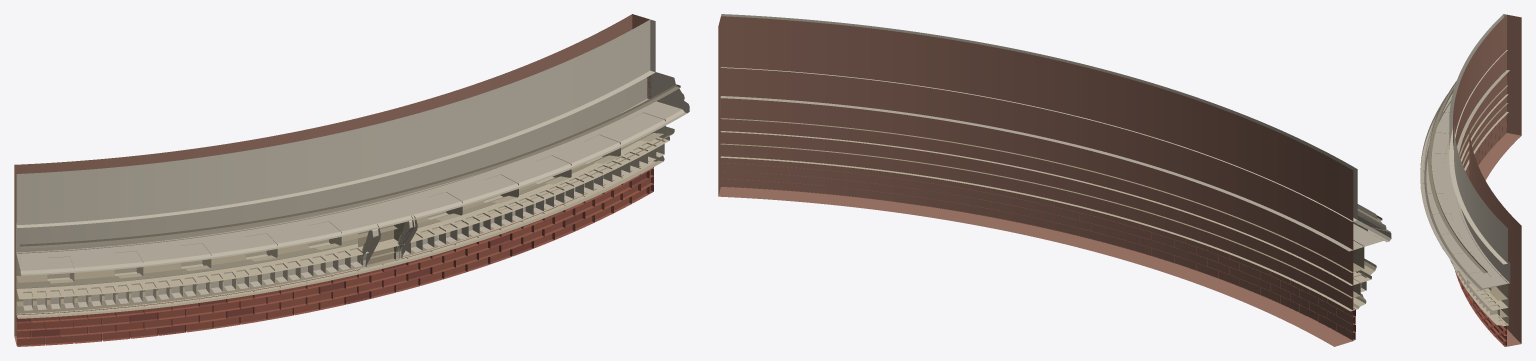
The model's file is hongkou-little-pearce-apartments-curved-cornice-raw.glb.
3 views of the same model, side by side, from view 1: azimuth 30°, elevation 25°; view 2: azimuth 150°, elevation 25°; view 3: azimuth 270°, elevation 25° (orthographic). The views are drawn at different scales.
Parts seen in each view (by area): view 1: 小浦西公寓塘沽路圆角檐带与齿饰; view 2: 小浦西公寓塘沽路圆角檐带与齿饰; view 3: 小浦西公寓塘沽路圆角檐带与齿饰.
Part boxes in pixels (<box>): 小浦西公寓塘沽路圆角檐带与齿饰: <box>14,14,689,346</box>; 小浦西公寓塘沽路圆角檐带与齿饰: <box>718,14,1391,346</box>; 小浦西公寓塘沽路圆角檐带与齿饰: <box>1420,14,1521,346</box>.
Bounding box in the file's own units: 6.33 × 1.55 × 1.21.
